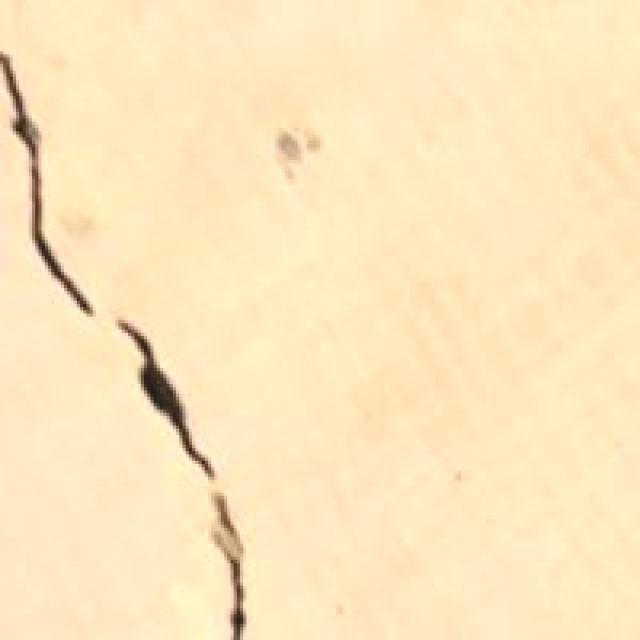crack: (0, 40, 298, 640)
